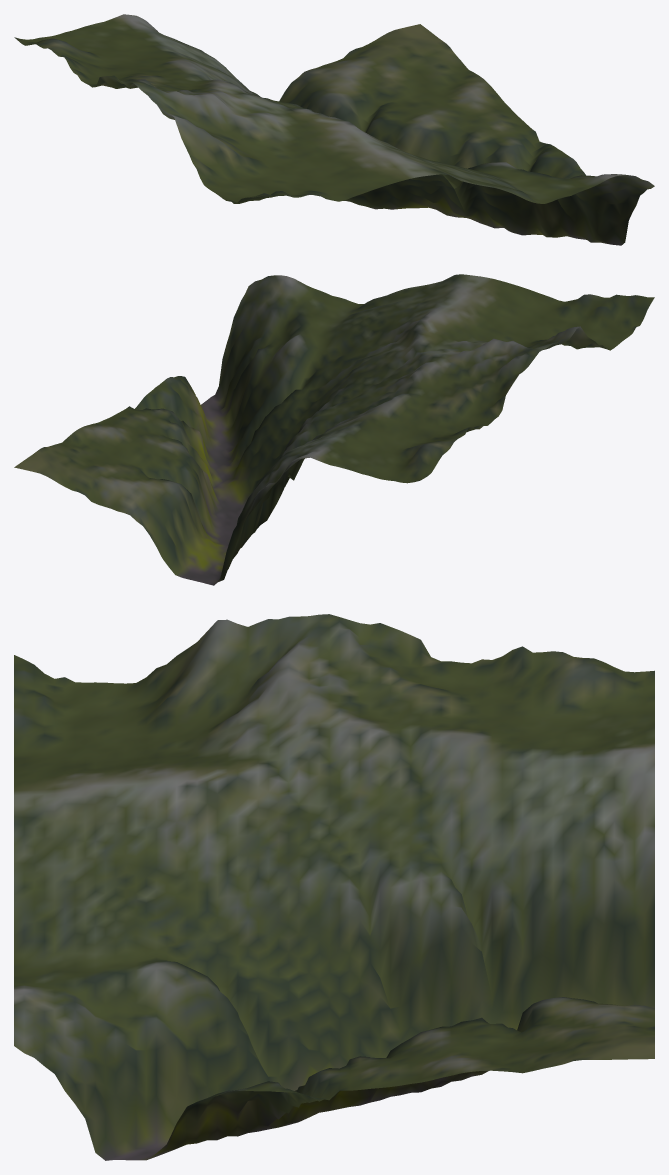
Rendered from TownLandscape_Mesh_x0125_2_0.fbx.
3 renders of one model, top to bottom at view 1: azimuth 30°, elevation 25°; view 2: azimuth 150°, elevation 25°; view 3: azimuth 270°, elevation 25°, orthographic. The views are drawn at different scales.
Parts seen in each view (by area): view 1: Terrain; view 2: Terrain; view 3: Terrain.
Boxes of the visible parts, x1,y1,x2,y2 form: Terrain: (14, 14, 654, 245); Terrain: (14, 274, 654, 585); Terrain: (14, 614, 654, 1160).
Bounding box in the file's own units: 1024 × 503 × 1024.
